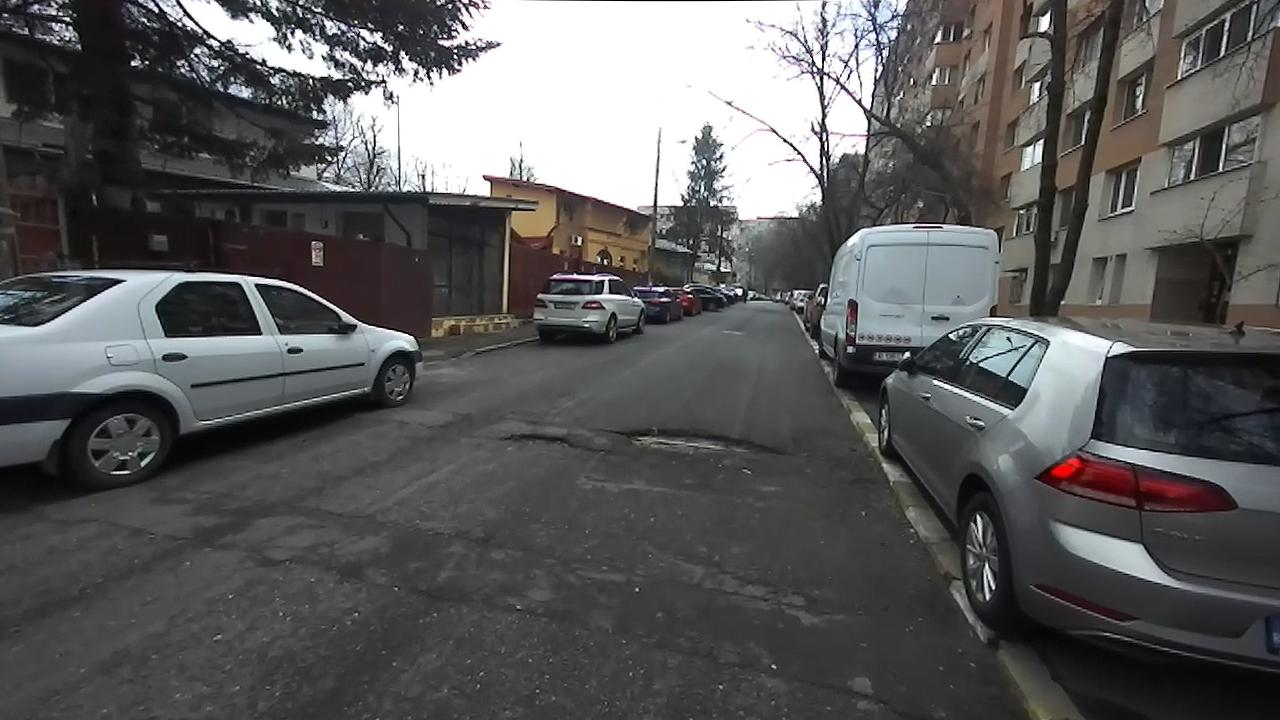pothole: (602, 423, 799, 462), (497, 428, 589, 453)
